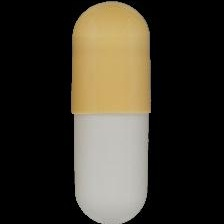55045-2759: (0, 0, 224, 224)
